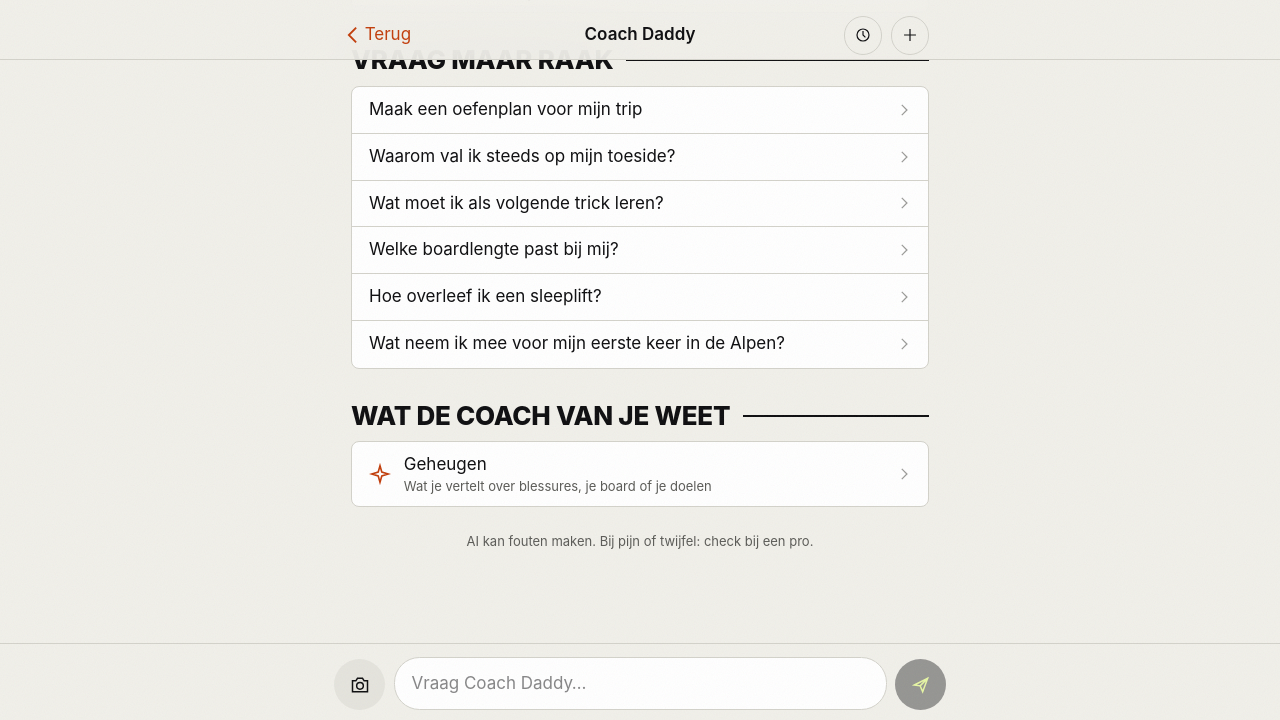
it: gesprek › trick-knop linkt naar de bijbel; onthouden komt meteen in het geheugen
(page scrolled)
Type "Mijn pols doet pijn bij ollies" into the text box named "Bericht aan de coach" at (640, 684), box 394,657 -> 886,710
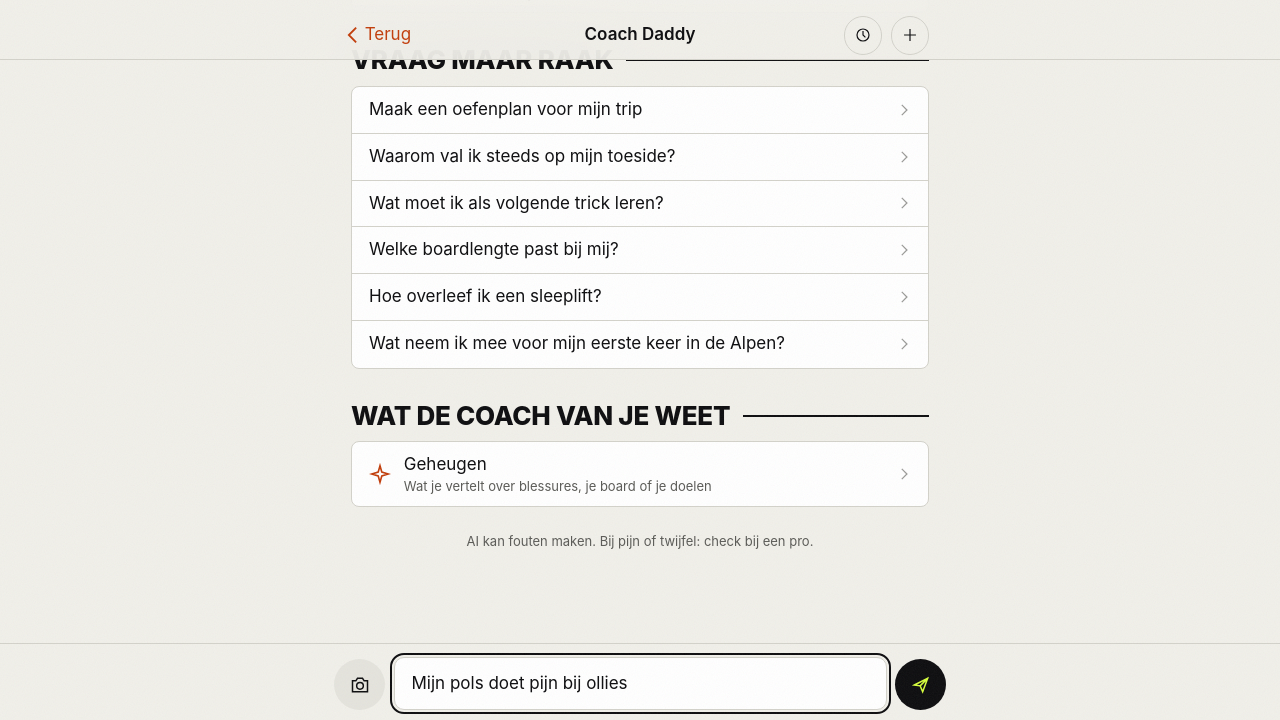
Click the button named "Verstuur" at (920, 684), box 895,659 -> 946,710
(page scrolled)
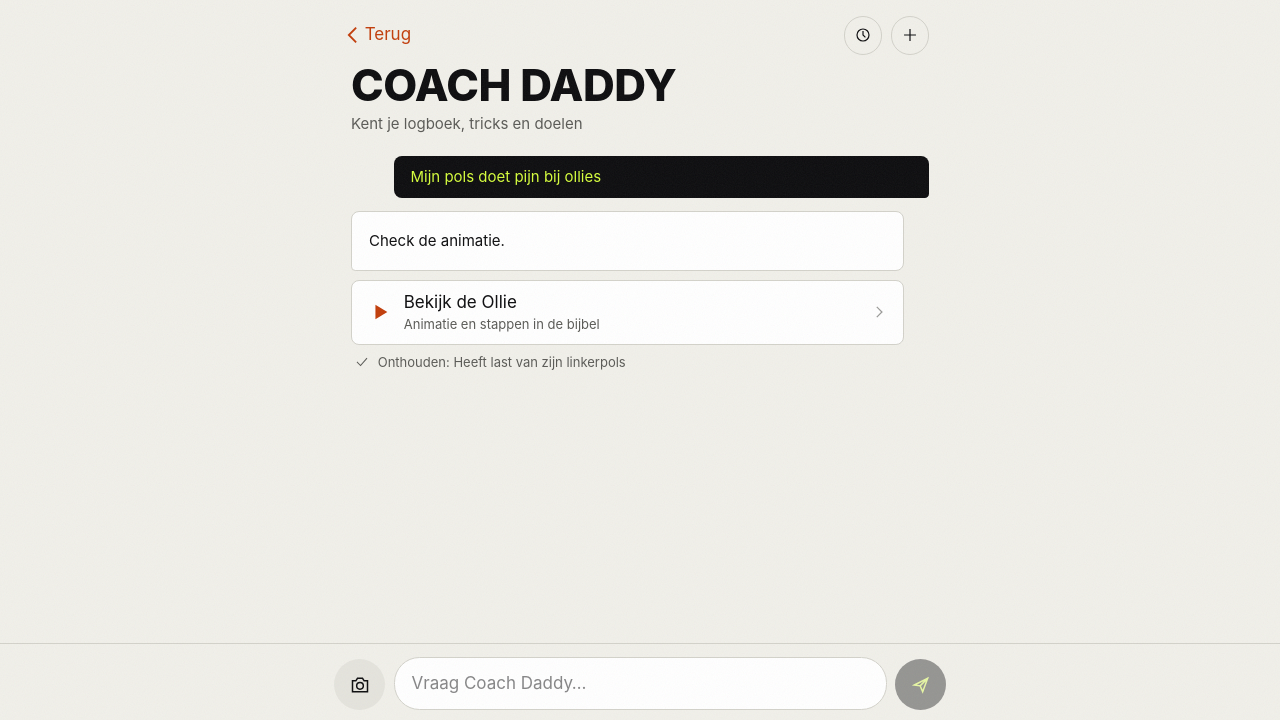
expect the text "Onthouden: Heeft last van zijn linkerpols" is shown: met, box 378,353 -> 626,371
